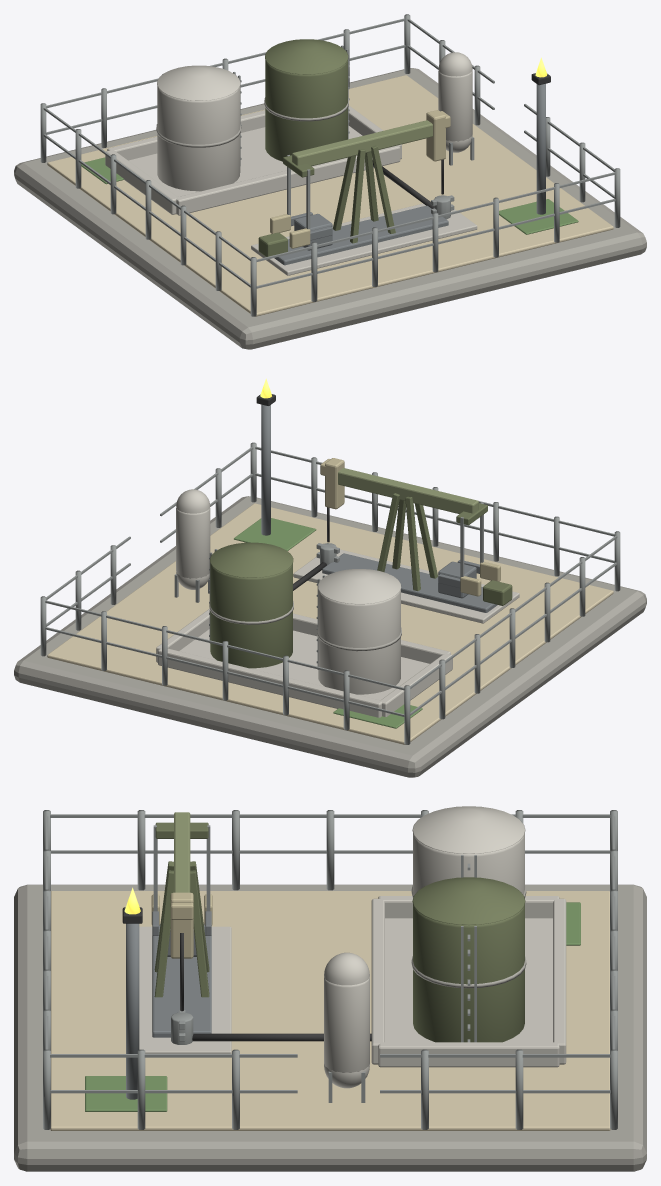
Rendered from oilwell_4.glb.
3 views of the same model, one above another, from view 1: azimuth 30°, elevation 25°; view 2: azimuth 150°, elevation 25°; view 3: azimuth 270°, elevation 25° (orthographic). The views are drawn at different scales.
Visible parts, largest first — view 1: Cube.001, Cube, Cylinder.002, Cylinder.004, Cube.026, Cube.004, Cube.005, Cube.010, Cone, Cone.001, Cube.024, Cylinder.007 (+19 smaller); view 2: Cube.001, Cube, Cylinder.004, Cylinder.002, Cube.025, Cube.024, Cube.010, Cone.001, Cone, Cube.005, Cylinder.007, Cube.004 (+20 smaller); view 3: Cube.001, Cube, Cylinder.004, Cube.024, Cube.004, Cone, Cone.001, Cylinder.007, Cube.027, Cylinder.002, Cube.005, Cylinder.008 (+32 smaller).
Boxes of the visible parts, box(x1,y1,x2,y2) form: Cube.001: box(47, 75, 613, 316); Cube: box(14, 68, 646, 349); Cylinder.002: box(157, 86, 240, 191); Cylinder.004: box(265, 60, 347, 161); Cube.026: box(176, 145, 400, 215); Cube.004: box(251, 203, 477, 275); Cube.005: box(274, 205, 448, 265); Cube.010: box(292, 120, 432, 166); Cone: box(157, 65, 240, 100); Cone.001: box(265, 39, 348, 74); Cube.024: box(128, 126, 362, 214); Cylinder.007: box(438, 71, 472, 141); Cube.001: box(47, 503, 613, 744); Cube: box(14, 496, 646, 777); Cylinder.004: box(210, 563, 292, 668); Cylinder.002: box(318, 589, 400, 694); Cube.025: box(158, 648, 381, 717); Cube.024: box(179, 629, 429, 700); Cube.010: box(338, 468, 478, 513); Cone.001: box(210, 542, 293, 577); Cone: box(318, 569, 401, 604); Cube.005: box(322, 553, 497, 612); Cylinder.007: box(176, 508, 210, 578); Cube.004: box(293, 549, 519, 623); Cube.001: box(50, 891, 610, 1130); Cube: box(14, 884, 646, 1171); Cylinder.004: box(413, 904, 524, 1042); Cube.024: box(385, 918, 552, 1042); Cube.004: box(139, 926, 231, 1053); Cone: box(412, 806, 525, 853); Cone.001: box(412, 877, 525, 924); Cylinder.007: box(324, 977, 369, 1072); Cube.027: box(378, 1042, 559, 1067); Cylinder.002: box(413, 833, 524, 894); Cube.005: box(152, 923, 211, 1037); Cylinder.008: box(126, 923, 139, 1099).
Size of the model in its own units: 1.92 by 0.825 by 1.92.
